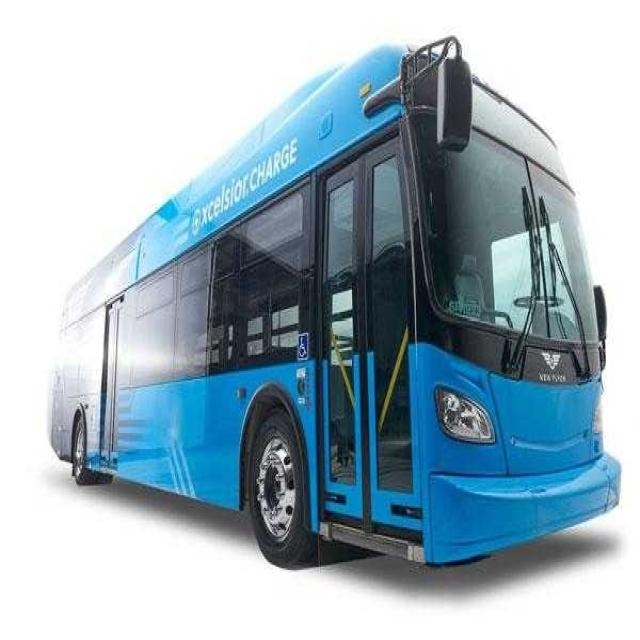Bus: (36, 25, 626, 588)
